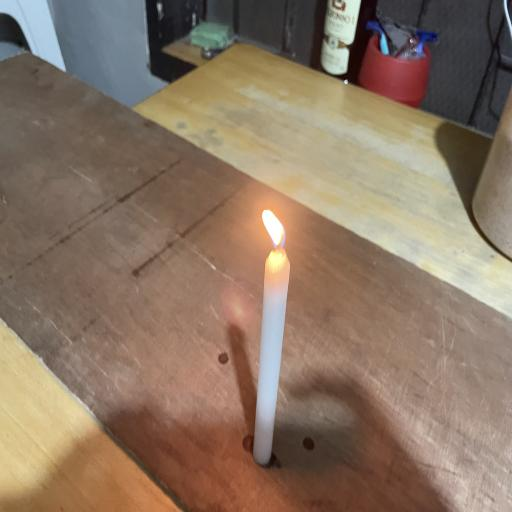fire: (245, 197, 299, 261)
